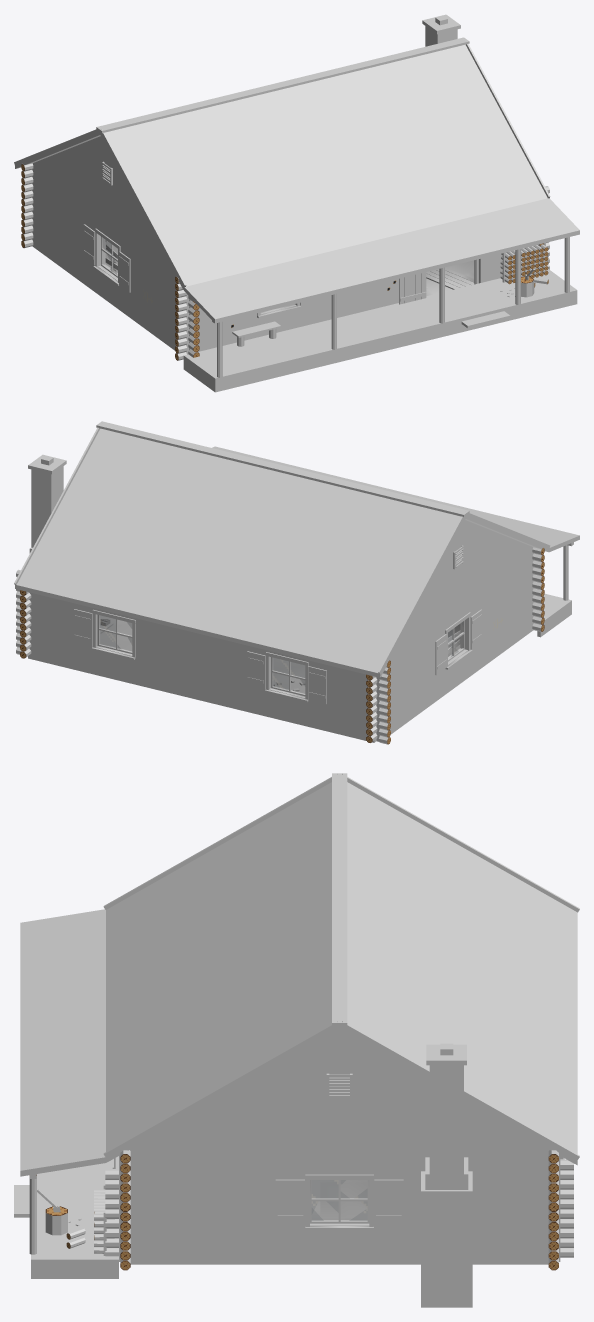
The model's file is cabin_east.glb.
3 views of the same model, one above another, from view 1: azimuth 30°, elevation 25°; view 2: azimuth 150°, elevation 25°; view 3: azimuth 270°, elevation 25° (orthographic). The views are drawn at different scales.
Parts seen in each view (by area): view 1: cabin_east; view 2: cabin_east; view 3: cabin_east.
Part boxes in pixels (x1,y1,x2,y2): cabin_east: [14, 14, 579, 392]; cabin_east: [14, 421, 579, 744]; cabin_east: [14, 773, 579, 1307].
Size of the model in its own units: 14.75 by 6.89 by 13.21.
Materials: 4 (3 with a texture image).
